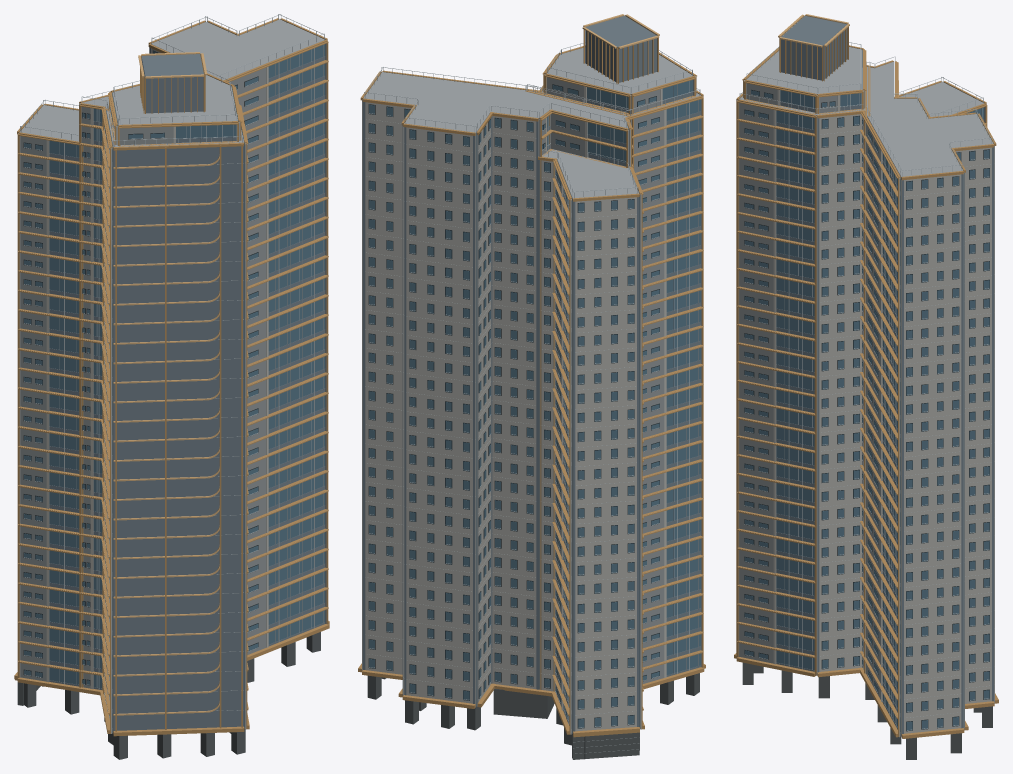
File: bespoke-raemian-onepentas-103.glb
3 renders of one model, left to right at view 1: azimuth 30°, elevation 25°; view 2: azimuth 150°, elevation 25°; view 3: azimuth 270°, elevation 25°, orthographic. The views are drawn at different scales.
Parts seen in each view (by area): view 1: bespoke-raemian-onepentas-103_export_batch_4, bespoke-raemian-onepentas-103_export_batch_6, bespoke-raemian-onepentas-103_export_batch_2, bespoke-raemian-onepentas-103_export_batch_10, bespoke-raemian-onepentas-103_export_batch_7, bespoke-raemian-onepentas-103_export_batch_3, bespoke-raemian-onepentas-103_export_batch_8, bespoke-raemian-onepentas-103_export_batch_5, bespoke-raemian-onepentas-103_export_batch_1, bespoke-raemian-onepentas-103_export_batch_9; view 2: bespoke-raemian-onepentas-103_export_batch_8, bespoke-raemian-onepentas-103_export_batch_6, bespoke-raemian-onepentas-103_export_batch_4, bespoke-raemian-onepentas-103_export_batch_2, bespoke-raemian-onepentas-103_export_batch_9, bespoke-raemian-onepentas-103_export_batch_3, bespoke-raemian-onepentas-103_export_batch_10, bespoke-raemian-onepentas-103_export_batch_5, bespoke-raemian-onepentas-103_export_batch_1, bespoke-raemian-onepentas-103_export_batch_7; view 3: bespoke-raemian-onepentas-103_export_batch_8, bespoke-raemian-onepentas-103_export_batch_6, bespoke-raemian-onepentas-103_export_batch_2, bespoke-raemian-onepentas-103_export_batch_10, bespoke-raemian-onepentas-103_export_batch_4, bespoke-raemian-onepentas-103_export_batch_3, bespoke-raemian-onepentas-103_export_batch_9, bespoke-raemian-onepentas-103_export_batch_5, bespoke-raemian-onepentas-103_export_batch_7, bespoke-raemian-onepentas-103_export_batch_1.
Part boxes in pixels (box(x1,y1,x2,y2)): bespoke-raemian-onepentas-103_export_batch_4: box(49, 47, 325, 732); bespoke-raemian-onepentas-103_export_batch_6: box(24, 44, 325, 732); bespoke-raemian-onepentas-103_export_batch_2: box(14, 18, 329, 736); bespoke-raemian-onepentas-103_export_batch_10: box(20, 67, 266, 689); bespoke-raemian-onepentas-103_export_batch_7: box(18, 52, 328, 715); bespoke-raemian-onepentas-103_export_batch_3: box(20, 14, 324, 719); bespoke-raemian-onepentas-103_export_batch_8: box(18, 43, 326, 733); bespoke-raemian-onepentas-103_export_batch_5: box(20, 19, 325, 146); bespoke-raemian-onepentas-103_export_batch_1: box(17, 632, 320, 759); bespoke-raemian-onepentas-103_export_batch_9: box(23, 50, 258, 685); bespoke-raemian-onepentas-103_export_batch_8: box(362, 73, 703, 734); bespoke-raemian-onepentas-103_export_batch_6: box(369, 80, 700, 733); bespoke-raemian-onepentas-103_export_batch_4: box(362, 15, 700, 732); bespoke-raemian-onepentas-103_export_batch_2: box(358, 15, 705, 737); bespoke-raemian-onepentas-103_export_batch_9: box(368, 84, 659, 728); bespoke-raemian-onepentas-103_export_batch_3: box(364, 43, 700, 753); bespoke-raemian-onepentas-103_export_batch_10: box(542, 77, 664, 706); bespoke-raemian-onepentas-103_export_batch_5: box(364, 47, 700, 198); bespoke-raemian-onepentas-103_export_batch_1: box(367, 673, 699, 759); bespoke-raemian-onepentas-103_export_batch_7: box(542, 14, 703, 714); bespoke-raemian-onepentas-103_export_batch_8: box(737, 50, 994, 737); bespoke-raemian-onepentas-103_export_batch_6: box(744, 50, 989, 735); bespoke-raemian-onepentas-103_export_batch_2: box(734, 15, 998, 738); bespoke-raemian-onepentas-103_export_batch_10: box(739, 83, 880, 699); bespoke-raemian-onepentas-103_export_batch_4: box(776, 16, 994, 735); bespoke-raemian-onepentas-103_export_batch_3: box(739, 42, 993, 730); bespoke-raemian-onepentas-103_export_batch_9: box(744, 89, 989, 731); bespoke-raemian-onepentas-103_export_batch_5: box(739, 47, 993, 176); bespoke-raemian-onepentas-103_export_batch_7: box(737, 14, 986, 717); bespoke-raemian-onepentas-103_export_batch_1: box(742, 662, 992, 759).
Bounding box in the file's own units: 48.31 × 105 × 39.65.
